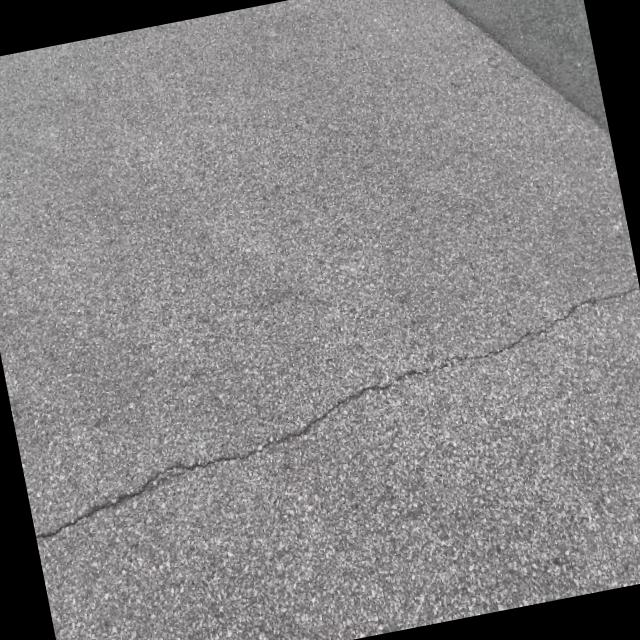Retak-Melintang: (39, 284, 637, 546)
